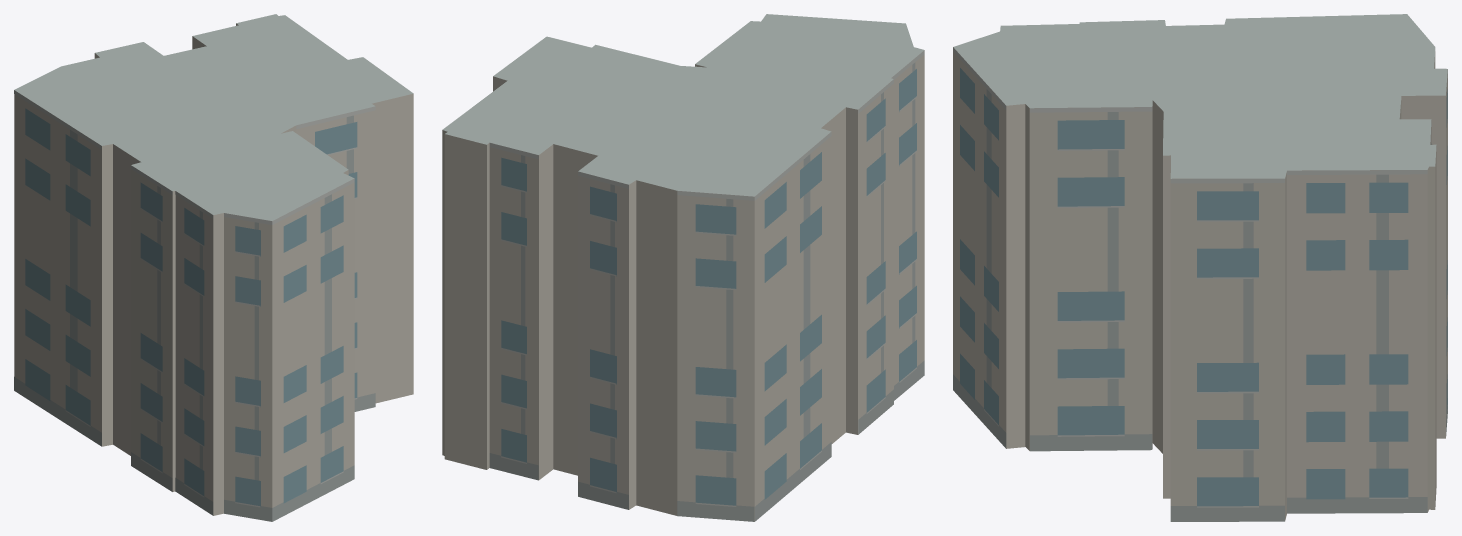
The model's file is survey-upis-32834277.glb.
The picture shows the model from 3 angles, left to right: view 1: azimuth 30°, elevation 25°; view 2: azimuth 150°, elevation 25°; view 3: azimuth 270°, elevation 25°; orthographic projection. The views are drawn at different scales.
Parts seen in each view (by area): view 1: survey-upis-32834277.tmp; view 2: survey-upis-32834277.tmp; view 3: survey-upis-32834277.tmp.
Part boxes in pixels (bbox=[...]): survey-upis-32834277.tmp: bbox=[14, 14, 413, 521]; survey-upis-32834277.tmp: bbox=[442, 14, 924, 521]; survey-upis-32834277.tmp: bbox=[953, 14, 1447, 521].
Bounding box in the file's own units: 18.95 × 18.39 × 24.04.
